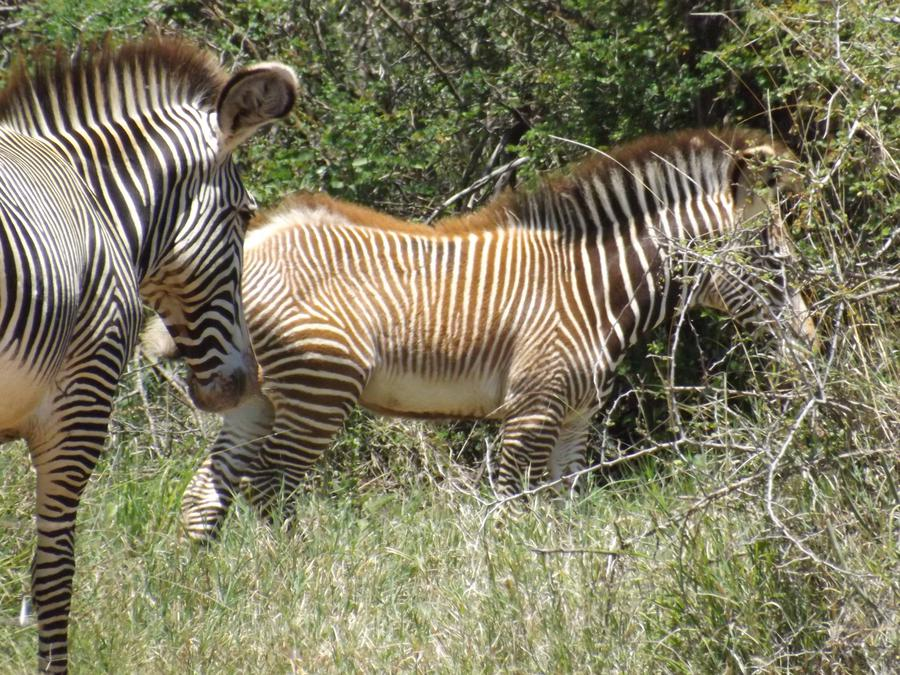zebra_grevys: (251, 171, 587, 419)
